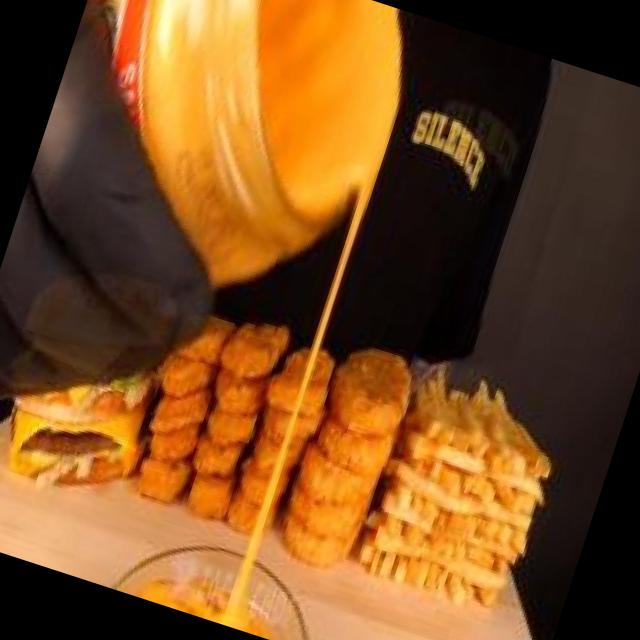Hashbrown: (269, 314, 434, 586)
burger: (69, 0, 464, 325), (0, 343, 177, 523)
french fries: (351, 336, 590, 639)
nugget: (114, 270, 360, 563)
